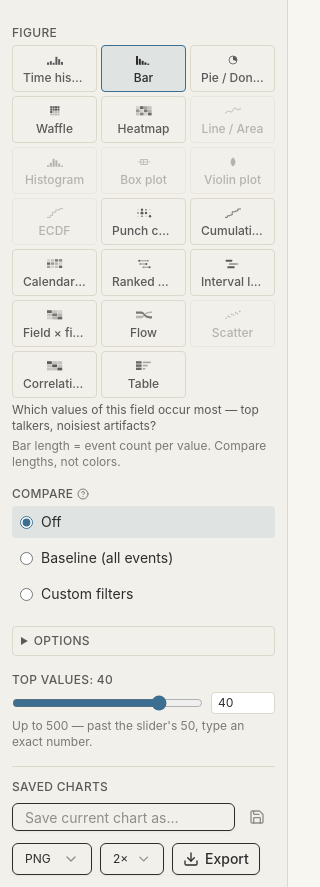
Test case: Top-values slider cost › spends one request on a drag, not one per step it passes through
The image size is (320, 887).
(page scrolled)
Press the mouse on the slider named "Top values" at (108, 703), box x1=12 y1=695 x2=203 y2=711
Set the slider named "Top values" to "30" at (124, 703), box x1=12 y1=695 x2=203 y2=711
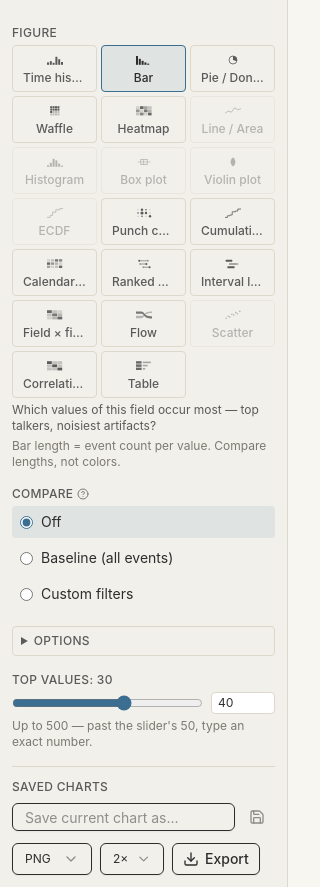
Set the slider named "Top values" to "20" at (88, 703), box x1=12 y1=695 x2=203 y2=711
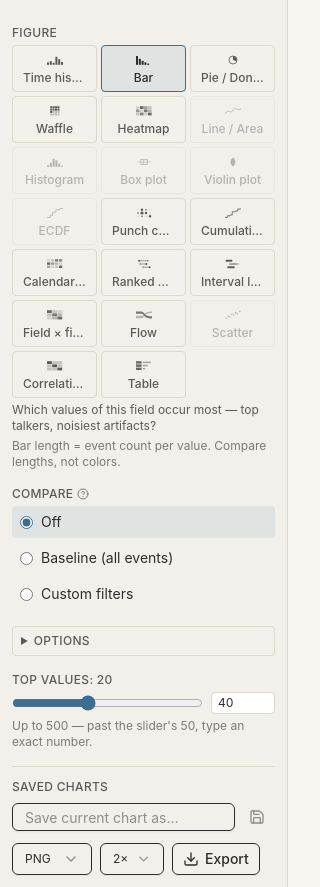
Set the slider named "Top values" to "12" at (59, 703), box x1=12 y1=695 x2=203 y2=711
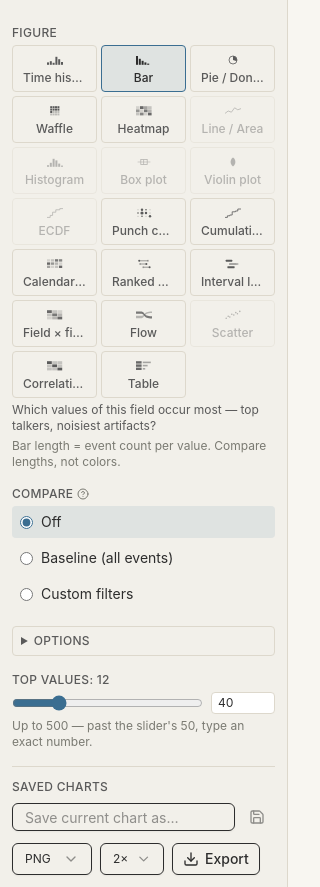
Set the slider named "Top values" to "10" at (52, 703), box x1=12 y1=695 x2=203 y2=711
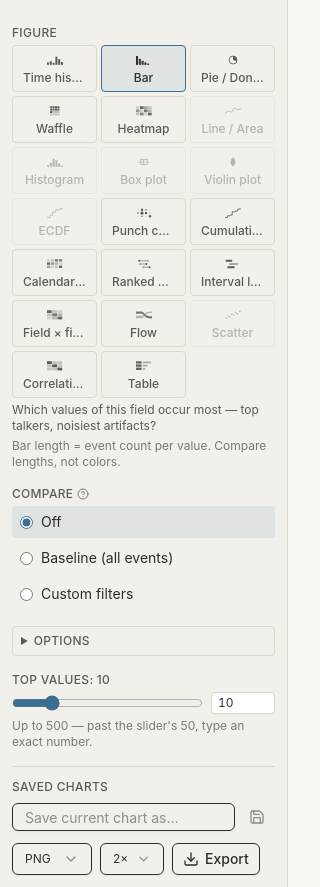
Result: the text "Top values: 10" is shown at x1=12 y1=672 x2=110 y2=687
